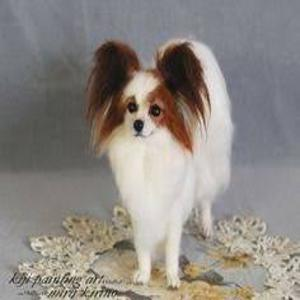yell: (85, 38, 232, 289)
